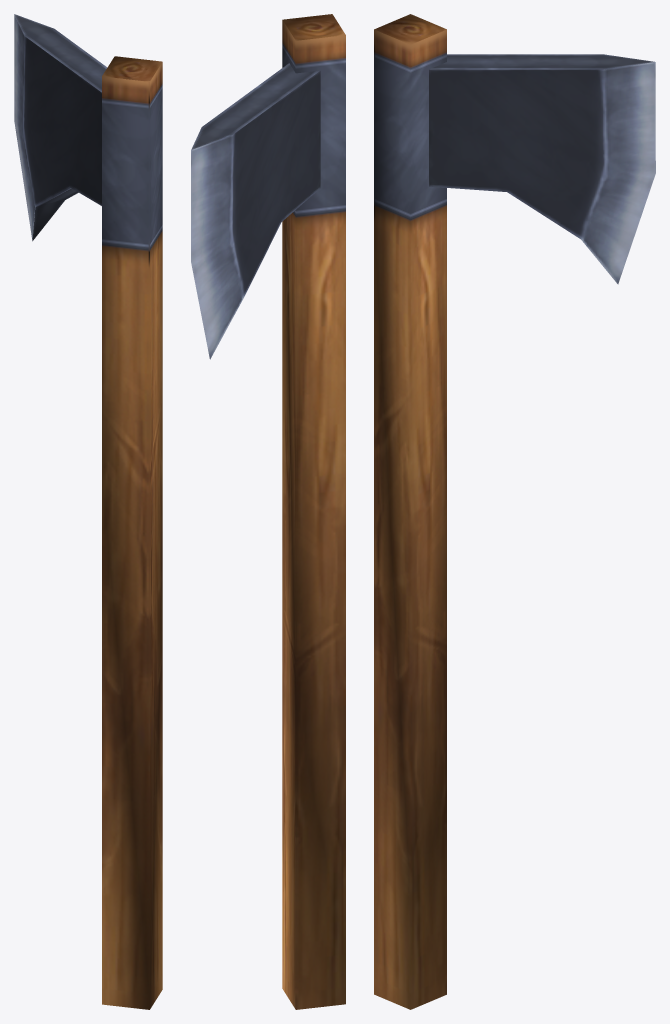
The model's file is Axe.FBX.
3 views of the same model, side by side, from view 1: azimuth 30°, elevation 25°; view 2: azimuth 150°, elevation 25°; view 3: azimuth 270°, elevation 25° (orthographic). The views are drawn at different scales.
Parts seen in each view (by area): view 1: Axe; view 2: Axe; view 3: Axe.
Boxes of the visible parts, <box> form: Axe: <box>14,14,162,1009</box>; Axe: <box>191,14,345,1009</box>; Axe: <box>374,14,655,1009</box>.
Bounding box in the file's own units: 0.071 × 1.04 × 0.2741.
